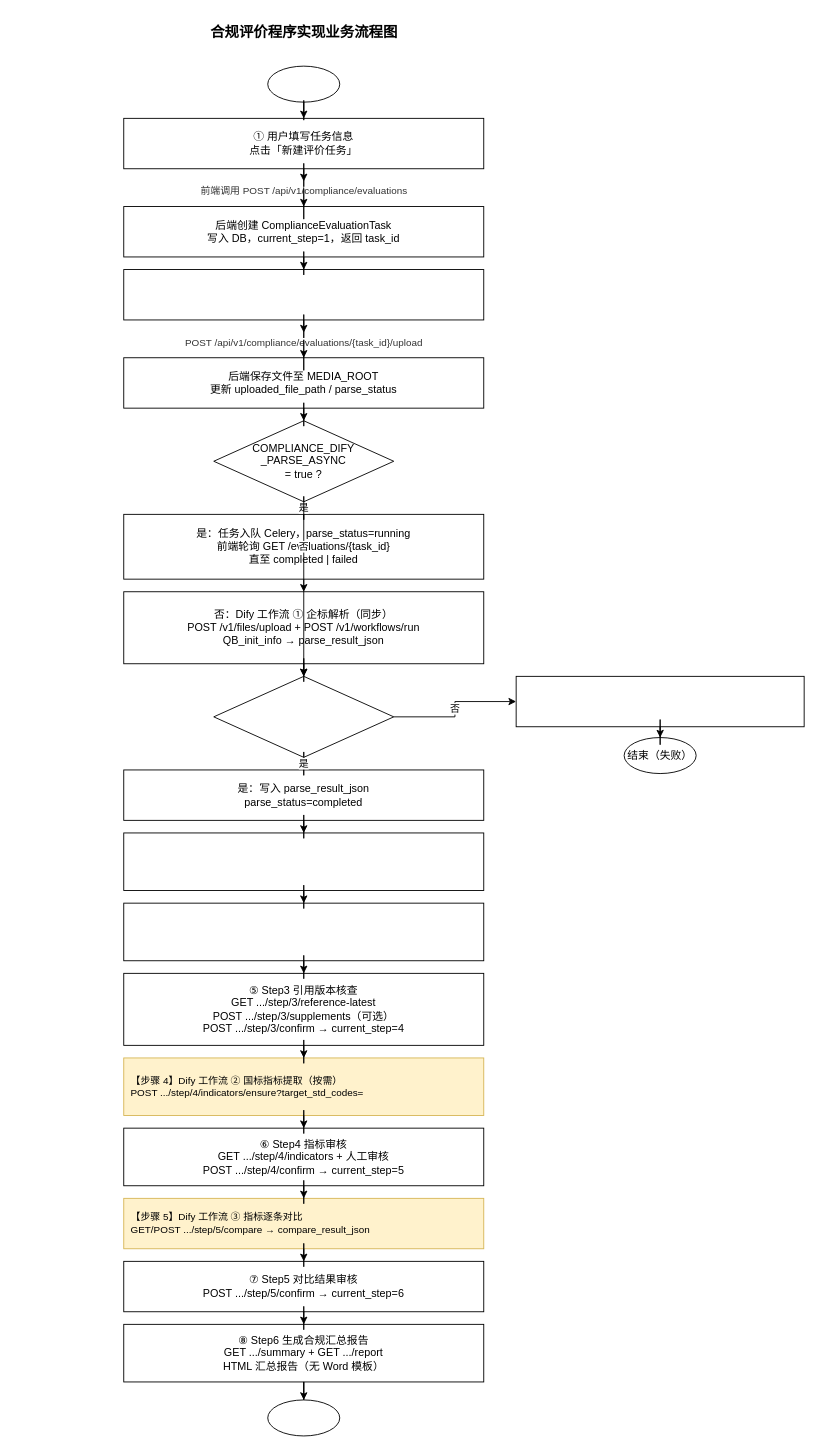
The diagram is 820 pixels wide and 1452 high, and some of its shapes have lost their labels. The box of each missing label's shape, as (x1, y1, x2, y2) in pixels:
Dify 解析 是否成功？: (213, 675, 394, 757)
② 用户选择企标文件（PDF/Word） 点击上传: (123, 269, 484, 320)
③ Step1 结构审核 GET .../step/1 → POST .../step/1/confirm current_step → 2: (123, 832, 484, 891)
④ Step2 引用标准匹配 GET .../step/2 → POST .../step/2/confirm 写入 reference_mapping: (123, 902, 484, 961)
否：写入 parse_error 前端展示错误，可重新上传: (515, 675, 804, 727)
开始: (267, 65, 340, 102)
结束: (267, 1399, 340, 1436)
